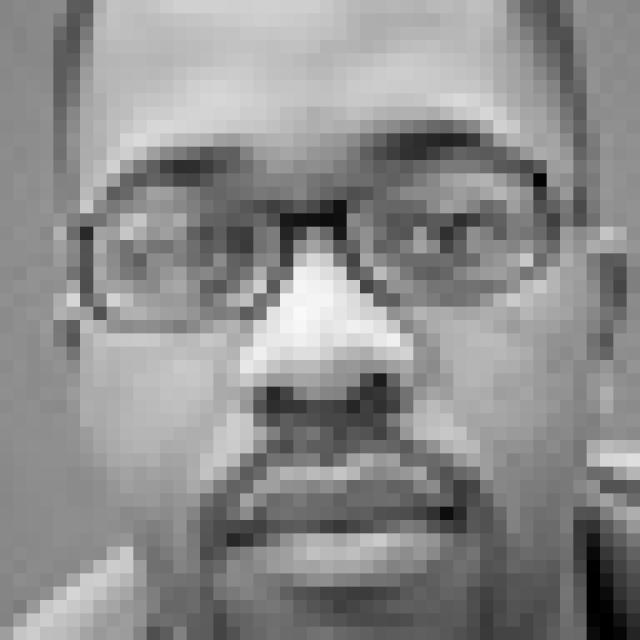neutral: (96, 107, 554, 607)
